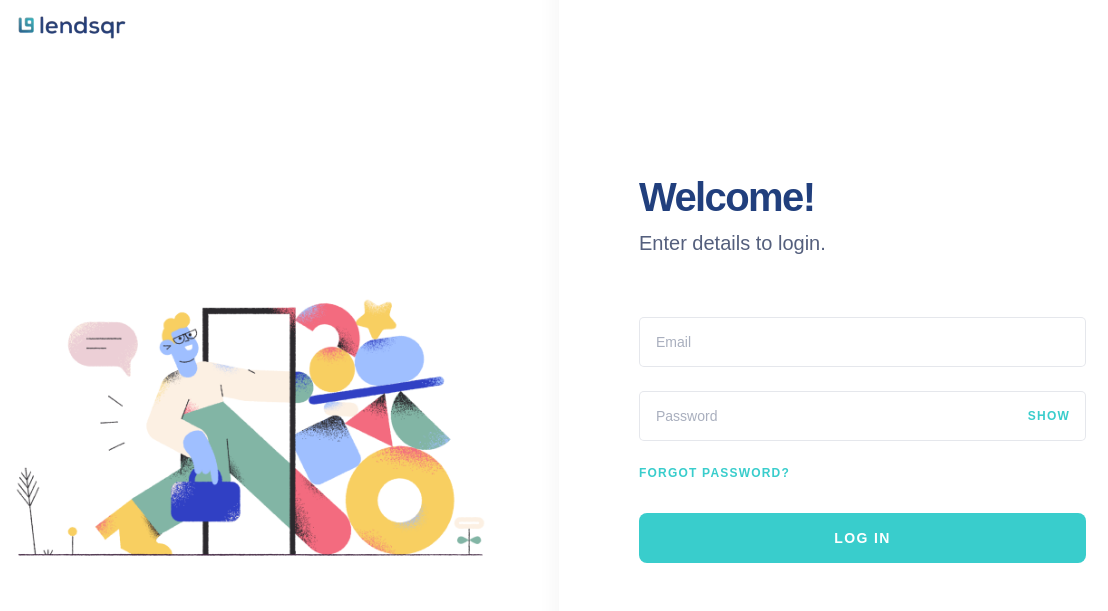
Test: Login Component › Validation › shows error when either field is empty
Click the button "LOG IN".
click(862, 538)  # box [639, 513, 1086, 563]
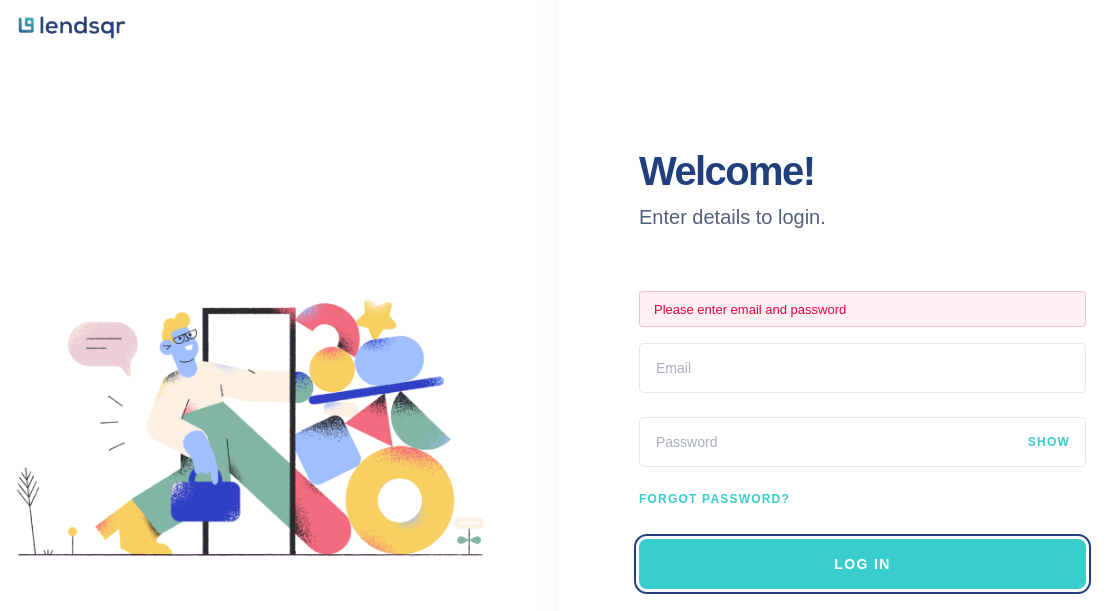
Now the message reads "Please enter email and password", box [654, 302, 846, 316]
